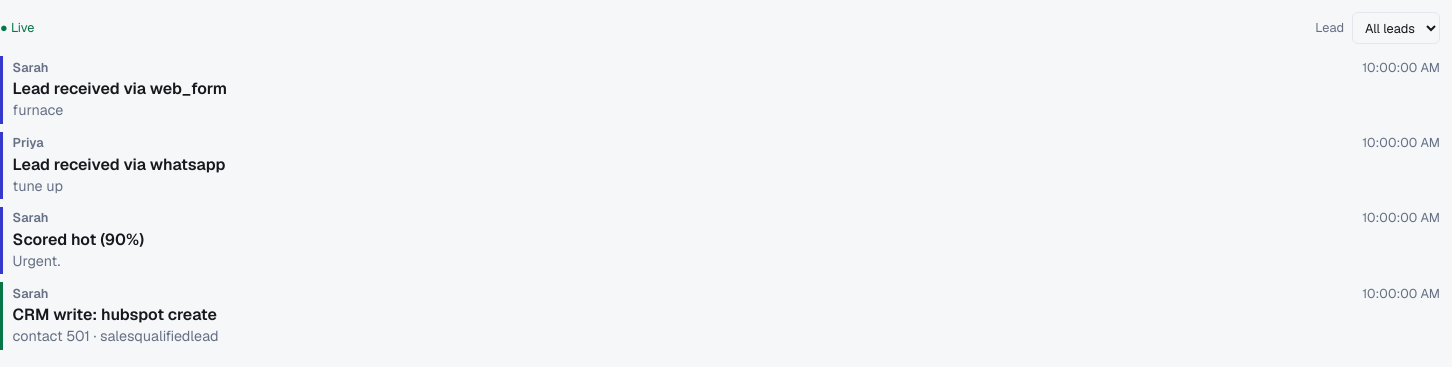
Scenario: TracePanel › narrows to one lead's journey and back
Select "Priya" in the dropdown labelled "Lead" at coordinates (1396, 28), box [1352,12,1440,44]
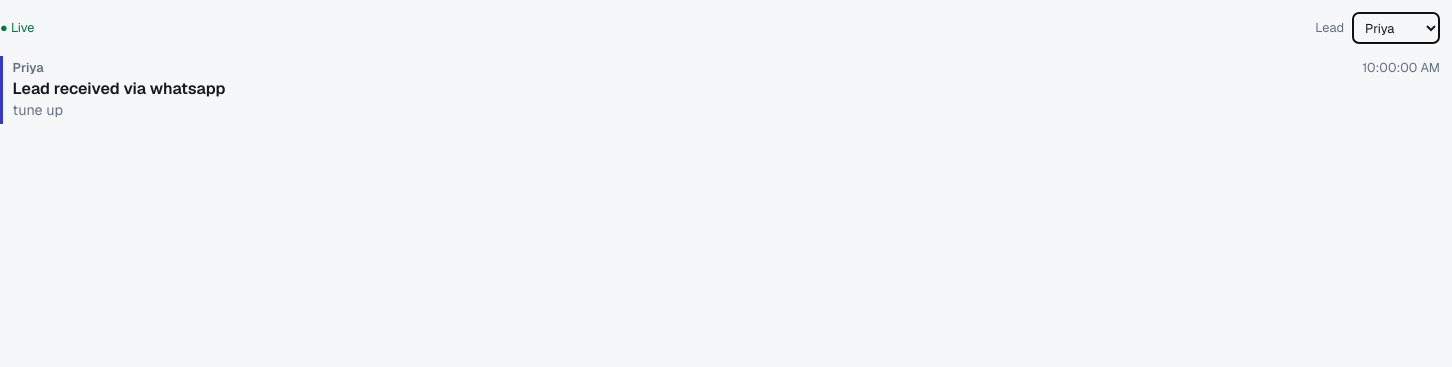
Expected: the text "tune up" is shown, [13,101,63,119]
Expected: the number of list items is 1, [0,56,1440,124]
Select "All leads" in the dropdown labelled "Lead" at coordinates (1396, 28), box [1352,12,1440,44]
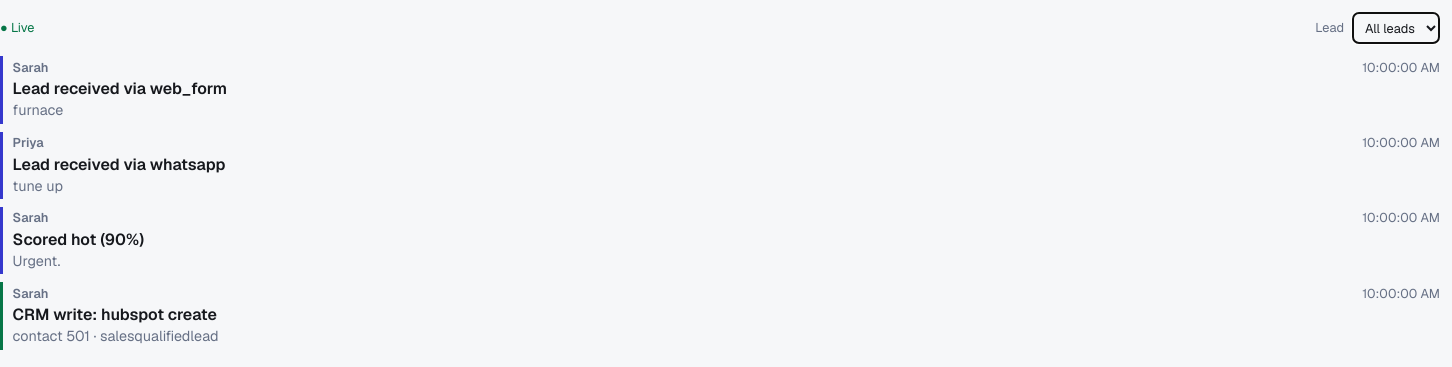
Expected: the number of list items is 4, [0,56,1440,124]; [0,132,1440,199]; [0,207,1440,274]; [0,282,1440,350]
